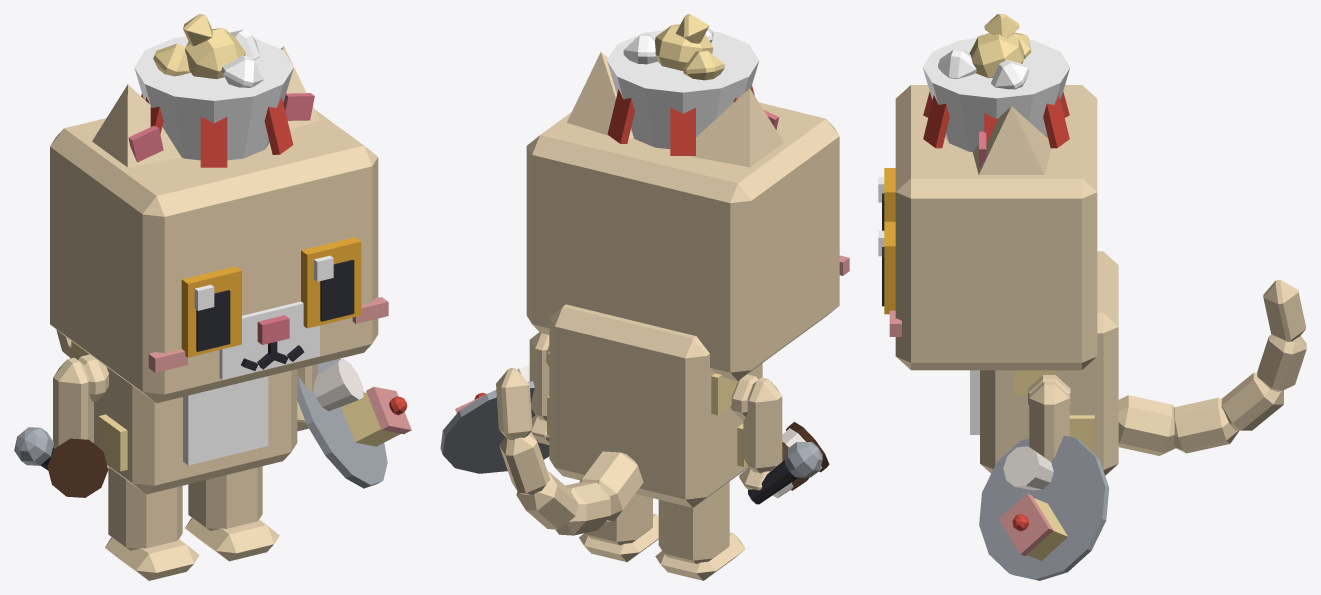
File: CatCafe_Cat_Popcorn_Work.fbx
The picture shows the model from 3 angles, left to right: view 1: azimuth 30°, elevation 25°; view 2: azimuth 150°, elevation 25°; view 3: azimuth 270°, elevation 25°; orthographic projection. The views are drawn at different scales.
Parts seen in each view (by area): view 1: CatCafe_Cat_Popcorn_Work_Head, CatCafe_Cat_Popcorn_Work_Body, CatCafe_Cat_Popcorn_Work_Prop, CatCafe_Cat_Popcorn_Work_Held_Waiter, CatCafe_Cat_Popcorn_Work_LegB2, CatCafe_Cat_Popcorn_Work_LegB1, CatCafe_Cat_Popcorn_Work_Eye2, CatCafe_Cat_Popcorn_Work_Eye1, CatCafe_Cat_Popcorn_Work_EarR, CatCafe_Cat_Popcorn_Work_LegF2, CatCafe_Cat_Popcorn_Work_Held_Barista, CatCafe_Cat_Popcorn_Work_EarL (+2 smaller); view 2: CatCafe_Cat_Popcorn_Work_Head, CatCafe_Cat_Popcorn_Work_Body, CatCafe_Cat_Popcorn_Work_Prop, CatCafe_Cat_Popcorn_Work_Tail, CatCafe_Cat_Popcorn_Work_LegB2, CatCafe_Cat_Popcorn_Work_Held_Waiter, CatCafe_Cat_Popcorn_Work_EarR, CatCafe_Cat_Popcorn_Work_LegF2, CatCafe_Cat_Popcorn_Work_LegB1, CatCafe_Cat_Popcorn_Work_EarL, CatCafe_Cat_Popcorn_Work_Held_Entertainer, CatCafe_Cat_Popcorn_Work_LegF1 (+1 smaller); view 3: CatCafe_Cat_Popcorn_Work_Head, CatCafe_Cat_Popcorn_Work_Held_Waiter, CatCafe_Cat_Popcorn_Work_Prop, CatCafe_Cat_Popcorn_Work_Body, CatCafe_Cat_Popcorn_Work_Tail, CatCafe_Cat_Popcorn_Work_EarL, CatCafe_Cat_Popcorn_Work_LegF1, CatCafe_Cat_Popcorn_Work_Eye1, CatCafe_Cat_Popcorn_Work_Eye2.
Boxes of the visible parts, <box> form: CatCafe_Cat_Popcorn_Work_Head: <box>50,109,388,403</box>; CatCafe_Cat_Popcorn_Work_Body: <box>71,341,297,494</box>; CatCafe_Cat_Popcorn_Work_Prop: <box>134,14,293,167</box>; CatCafe_Cat_Popcorn_Work_Held_Waiter: <box>297,358,411,488</box>; CatCafe_Cat_Popcorn_Work_LegB2: <box>105,467,199,580</box>; CatCafe_Cat_Popcorn_Work_LegB1: <box>185,466,279,561</box>; CatCafe_Cat_Popcorn_Work_Eye2: <box>181,266,241,357</box>; CatCafe_Cat_Popcorn_Work_Eye1: <box>301,237,361,328</box>; CatCafe_Cat_Popcorn_Work_EarR: <box>92,84,181,167</box>; CatCafe_Cat_Popcorn_Work_LegF2: <box>53,357,93,447</box>; CatCafe_Cat_Popcorn_Work_Held_Barista: <box>47,438,108,497</box>; CatCafe_Cat_Popcorn_Work_EarL: <box>281,46,319,129</box>; CatCafe_Cat_Popcorn_Work_Head: <box>526,102,849,380</box>; CatCafe_Cat_Popcorn_Work_Body: <box>546,304,762,507</box>; CatCafe_Cat_Popcorn_Work_Prop: <box>607,14,759,155</box>; CatCafe_Cat_Popcorn_Work_Tail: <box>496,368,643,535</box>; CatCafe_Cat_Popcorn_Work_LegB2: <box>655,481,745,580</box>; CatCafe_Cat_Popcorn_Work_Held_Waiter: <box>440,365,549,473</box>; CatCafe_Cat_Popcorn_Work_EarR: <box>689,88,783,167</box>; CatCafe_Cat_Popcorn_Work_LegF2: <box>739,377,782,490</box>; CatCafe_Cat_Popcorn_Work_LegB1: <box>579,494,658,562</box>; CatCafe_Cat_Popcorn_Work_EarL: <box>567,52,633,139</box>; CatCafe_Cat_Popcorn_Work_Held_Entertainer: <box>748,442,822,504</box>; CatCafe_Cat_Popcorn_Work_LegF1: <box>529,332,549,444</box>; CatCafe_Cat_Popcorn_Work_Head: <box>889,85,1097,370</box>; CatCafe_Cat_Popcorn_Work_Held_Waiter: <box>979,435,1109,580</box>; CatCafe_Cat_Popcorn_Work_Prop: <box>922,14,1070,151</box>; CatCafe_Cat_Popcorn_Work_Body: <box>970,251,1118,475</box>; CatCafe_Cat_Popcorn_Work_Tail: <box>1118,279,1306,455</box>; CatCafe_Cat_Popcorn_Work_EarL: <box>972,106,1051,174</box>; CatCafe_Cat_Popcorn_Work_LegF1: <box>1029,381,1069,461</box>; CatCafe_Cat_Popcorn_Work_Eye1: <box>878,221,895,314</box>; CatCafe_Cat_Popcorn_Work_Eye2: <box>878,168,895,230</box>.
Bounding box in the file's own units: 1.53 × 2.14 × 1.62.
1 material, 1 textured.
